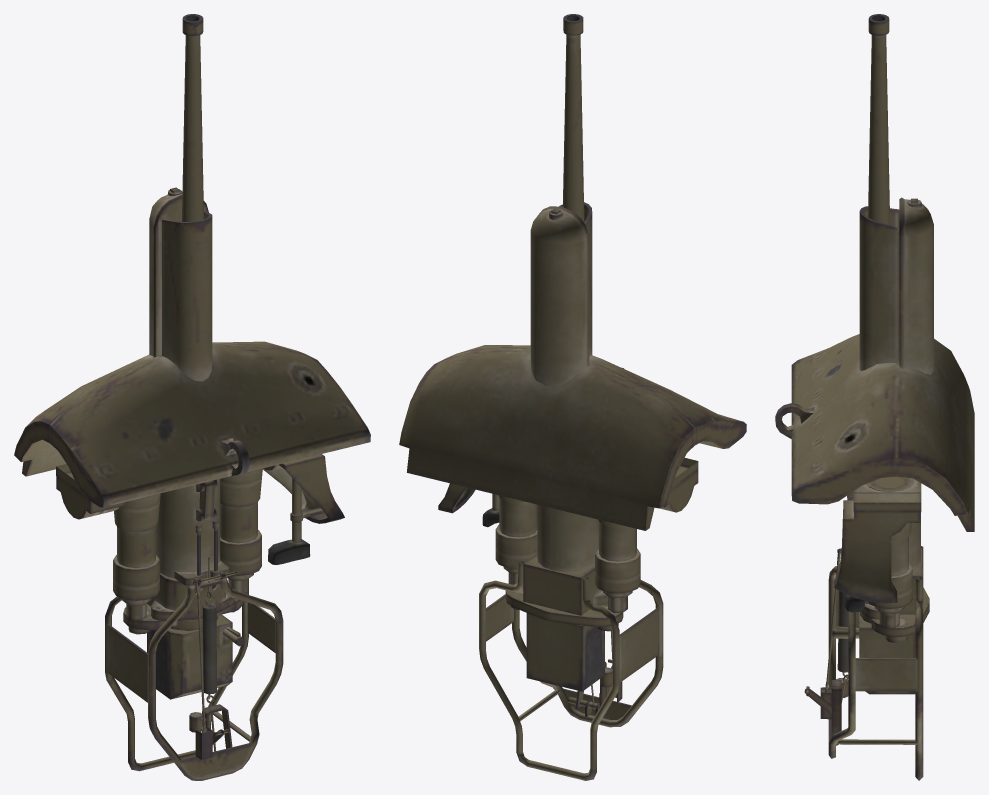
File: Gun_03.glb
3 renders of one model, left to right at view 1: azimuth 30°, elevation 25°; view 2: azimuth 150°, elevation 25°; view 3: azimuth 270°, elevation 25°, orthographic. The views are drawn at different scales.
Parts seen in each view (by area): view 1: set_0_group_0; view 2: set_0_group_0; view 3: set_0_group_0.
Part boxes in pixels (x1,y1,x2,y2): set_0_group_0: [14, 14, 370, 780]; set_0_group_0: [399, 14, 746, 780]; set_0_group_0: [775, 14, 974, 780].
Size of the model in its own units: 0.8983 by 2.44 by 0.5882.
Materials: 1 (1 with a texture image).
